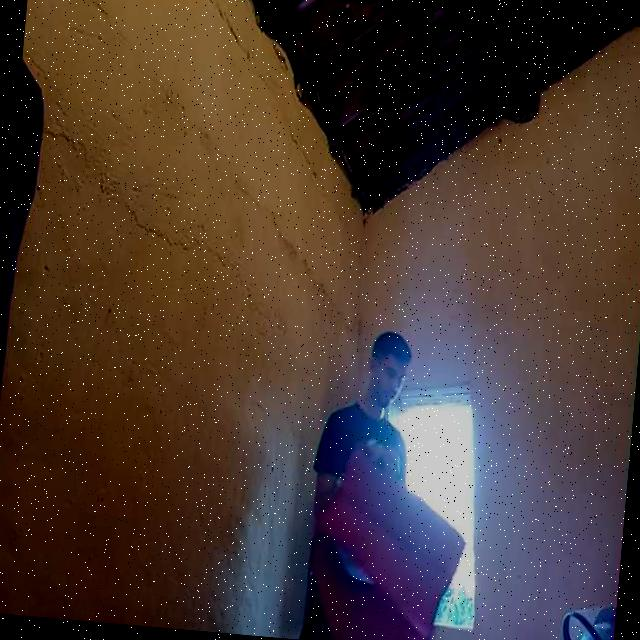capacete: (554, 599, 616, 640)
colete: (311, 461, 469, 640)
pessoa: (303, 331, 430, 640)
